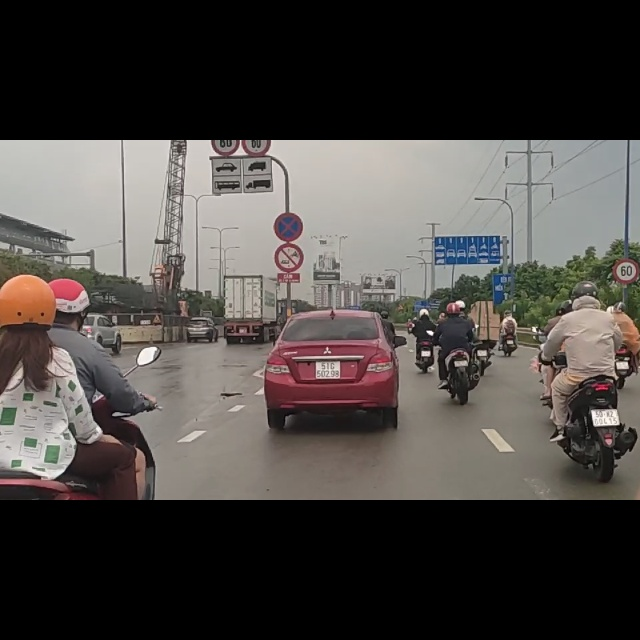bien_chi_dan: (273, 129, 303, 179), (614, 210, 639, 255)
